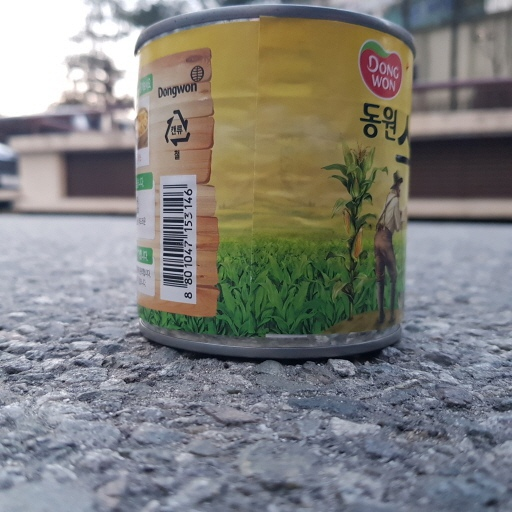Metal_1: (130, 4, 418, 359)
